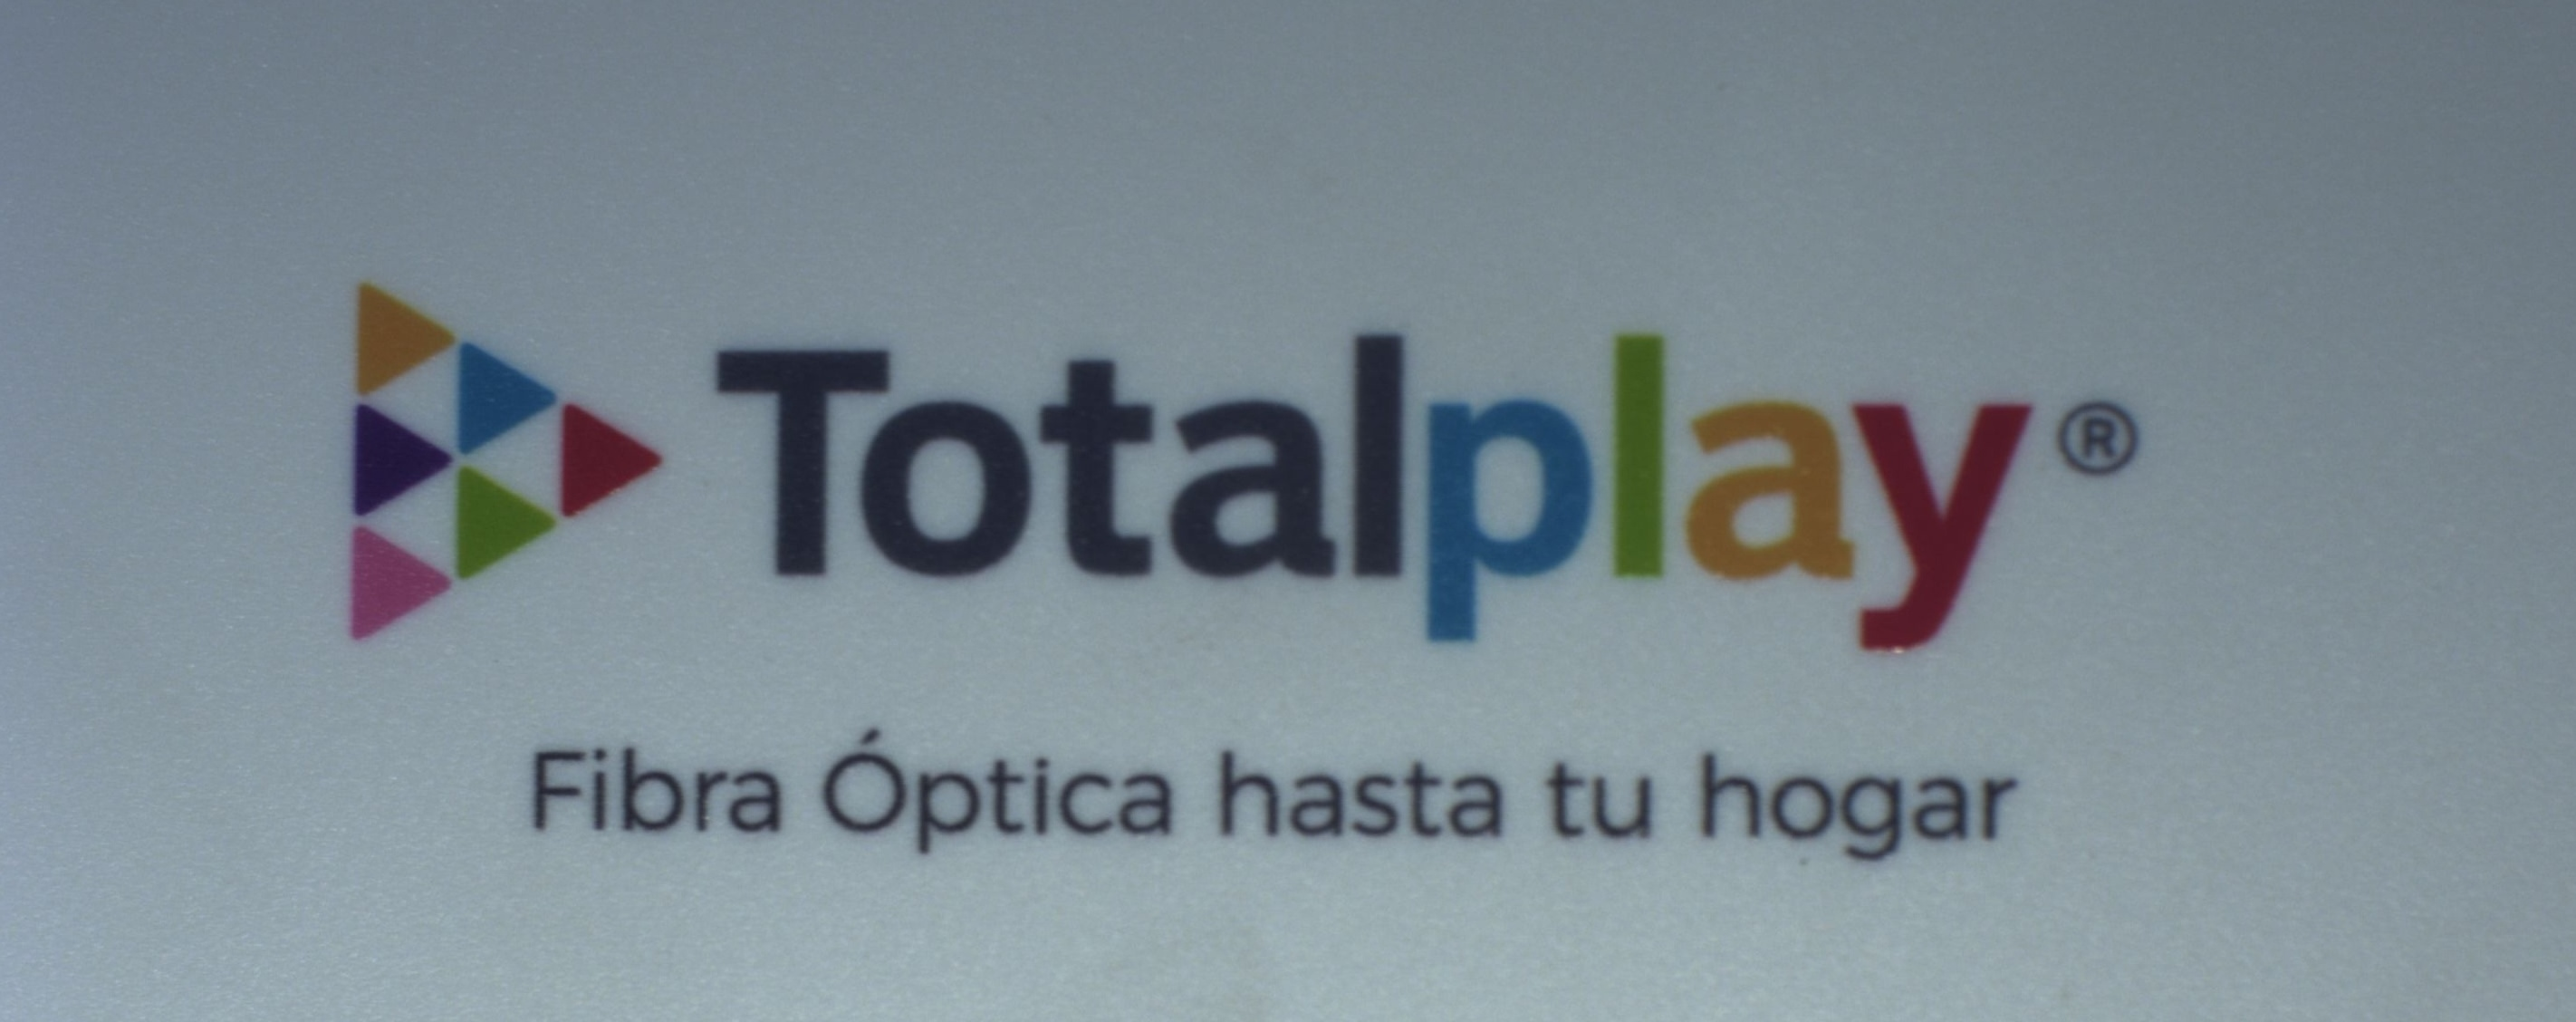BP_TotalPlay: (338, 271, 2157, 864)
